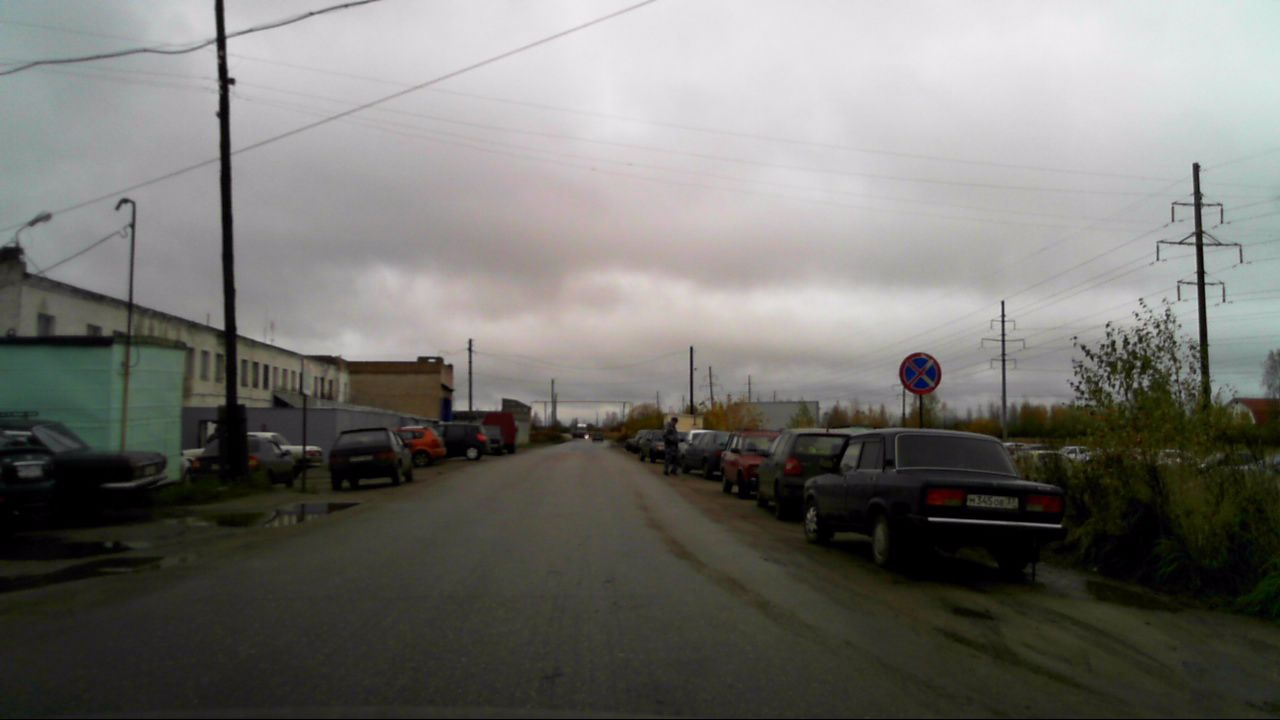No Parking: (898, 352, 941, 396)
